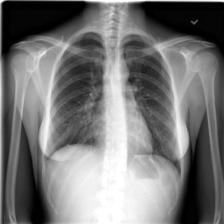normal: (45, 22, 185, 182)
